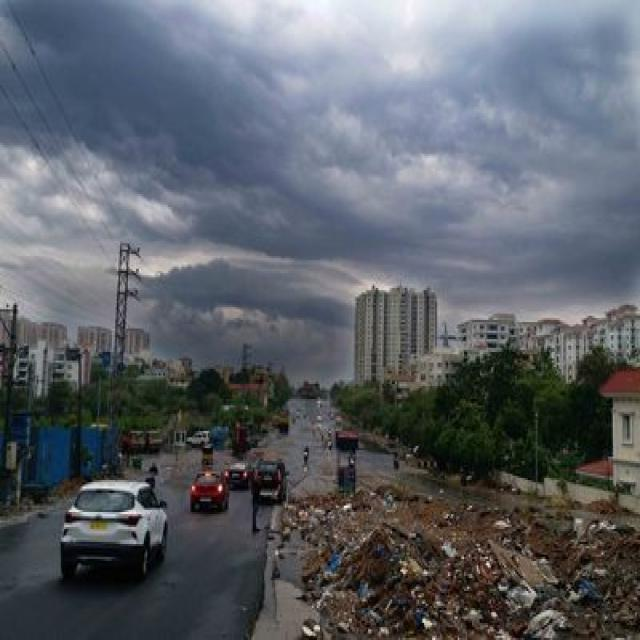garbage: (269, 480, 640, 640)
